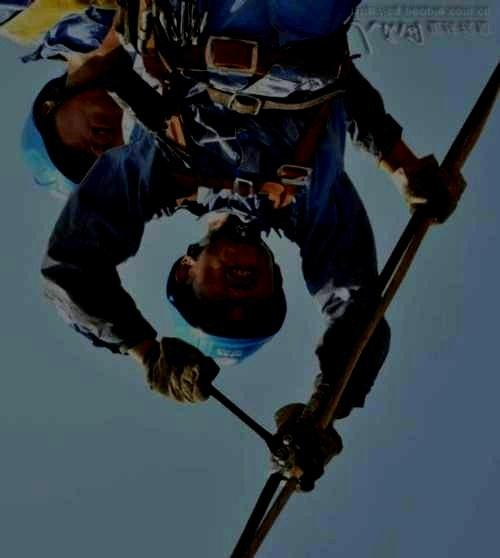helmet: (161, 231, 288, 367), (18, 72, 124, 204)
